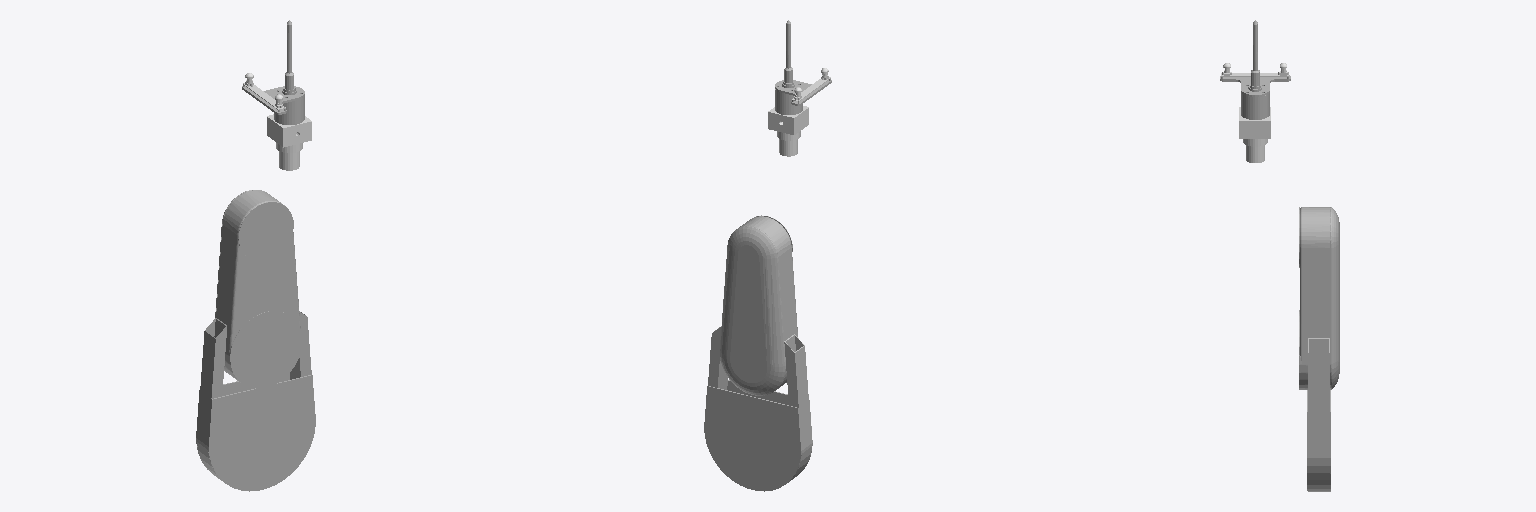
The robot description file, URDF, robot "m6r_0401":
<?xml version="1.0" encoding="utf-8"?>
<!-- This URDF was automatically created by SolidWorks to URDF Exporter! Originally created by Stephen Brawner (brawner@gmail.com) 
     Commit Version: 1.6.0-4-g7f85cfe  Build Version: 1.6.7995.38578
     For more information, please see http://wiki.ros.org/sw_urdf_exporter -->
<robot
  name="m6r_0401">
  <link
    name="base_link">
    <inertial>
      <origin
        xyz="-0.0146959562730705 -1.31808177656248E-09 0.0738790283475741"
        rpy="0 0 0" />
      <mass
        value="5.31276956078926" />
      <inertia
        ixx="0.0254280679798273"
        ixy="-3.83756468543776E-10"
        ixz="-0.00246652568977196"
        iyy="0.0327484488605481"
        iyz="-4.2304378248601E-10"
        izz="0.0305803894465856" />
    </inertial>
    <visual>
      <origin
        xyz="0 0 0"
        rpy="0 0 0" />
      <geometry>
        <mesh
          filename="package://m6r_0401/meshes/base_link.STL" />
      </geometry>
      <material
        name="">
        <color
          rgba="0.894117647058823 0.894117647058823 0.894117647058823 1" />
      </material>
    </visual>
    <collision>
      <origin
        xyz="0 0 0"
        rpy="0 0 0" />
      <geometry>
        <mesh
          filename="package://m6r_0401/meshes/base_link.STL" />
      </geometry>
    </collision>
  </link>
  <link
    name="waist_link">
    <inertial>
      <origin
        xyz="0.0139701613082039 -0.015936284472385 0.132965338967223"
        rpy="0 0 0" />
      <mass
        value="13.4868898164828" />
      <inertia
        ixx="0.103115065826466"
        ixy="-0.00279429226547681"
        ixz="-0.0175187461405487"
        iyy="0.154263710369968"
        iyz="0.00418239915297628"
        izz="0.150904232632326" />
    </inertial>
    <visual>
      <origin
        xyz="0 0 0"
        rpy="0 0 0" />
      <geometry>
        <mesh
          filename="package://m6r_0401/meshes/waist_link.STL" />
      </geometry>
      <material
        name="">
        <color
          rgba="0.894117647058823 0.894117647058823 0.894117647058823 1" />
      </material>
    </visual>
    <collision>
      <origin
        xyz="0 0 0"
        rpy="0 0 0" />
      <geometry>
        <mesh
          filename="package://m6r_0401/meshes/waist_link.STL" />
      </geometry>
    </collision>
  </link>
  <joint
    name="j1"
    type="revolute">
    <origin
      xyz="0 0 0.175"
      rpy="0 0 0" />
    <parent
      link="base_link" />
    <child
      link="waist_link" />
    <axis
      xyz="0 0 1" />
    <limit
      lower="-3.14"
      upper="3.14"
      effort="50"
      velocity="100" />
  </joint>
  <link
    name="shoulder_link">
    <inertial>
      <origin
        xyz="-0.0393421032855981 0.0417793152023532 0.0773583929062565"
        rpy="0 0 0" />
      <mass
        value="5.239440252985" />
      <inertia
        ixx="0.0539250127743356"
        ixy="1.3892253073317E-06"
        ixz="0.0203431860572253"
        iyy="0.0726126815272468"
        iyz="-2.72845406496921E-06"
        izz="0.0242701394994817" />
    </inertial>
    <visual>
      <origin
        xyz="0 0 0"
        rpy="0 0 0" />
      <geometry>
        <mesh
          filename="package://m6r_0401/meshes/shoulder_link.STL" />
      </geometry>
      <material
        name="">
        <color
          rgba="0.752941176470588 0.752941176470588 0.752941176470588 1" />
      </material>
    </visual>
    <collision>
      <origin
        xyz="0 0 0"
        rpy="0 0 0" />
      <geometry>
        <mesh
          filename="package://m6r_0401/meshes/shoulder_link.STL" />
      </geometry>
    </collision>
  </link>
  <joint
    name="j2"
    type="revolute">
    <origin
      xyz="0.1 0.0939999999999999 0.175"
      rpy="0 0.470238649045242 0" />
    <parent
      link="waist_link" />
    <child
      link="shoulder_link" />
    <axis
      xyz="0 1 0" />
    <limit
      lower="-3.14"
      upper="3.14"
      effort="50"
      velocity="100" />
  </joint>
  <link
    name="elbow_link">
    <inertial>
      <origin
        xyz="-0.0324458881612945 -0.0899423500054787 6.19472507663449E-05"
        rpy="0 0 0" />
      <mass
        value="3.1983360651658" />
      <inertia
        ixx="0.0112232922596549"
        ixy="-0.000413394805888793"
        ixz="-6.08808867039558E-08"
        iyy="0.0102793012206642"
        iyz="-6.82240237651028E-08"
        izz="0.0146558013438073" />
    </inertial>
    <visual>
      <origin
        xyz="0 0 0"
        rpy="0 0 0" />
      <geometry>
        <mesh
          filename="package://m6r_0401/meshes/elbow_link.STL" />
      </geometry>
      <material
        name="">
        <color
          rgba="0.894117647058823 0.894117647058823 0.894117647058823 1" />
      </material>
    </visual>
    <collision>
      <origin
        xyz="0 0 0"
        rpy="0 0 0" />
      <geometry>
        <mesh
          filename="package://m6r_0401/meshes/elbow_link.STL" />
      </geometry>
    </collision>
  </link>
  <joint
    name="j3"
    type="revolute">
    <origin
      xyz="-0.12007124676629 0 0.236236948210877"
      rpy="3.14159265358979 -1.10055767774965 3.14159265358979" />
    <parent
      link="shoulder_link" />
    <child
      link="elbow_link" />
    <axis
      xyz="0 1 0" />
    <limit
      lower="-3.14"
      upper="3.14"
      effort="50"
      velocity="100" />
  </joint>
  <link
    name="forearm_link">
    <inertial>
      <origin
        xyz="0.104594235632207 -3.51313726359792E-05 0.0118646938705899"
        rpy="0 0 0" />
      <mass
        value="3.99832391956014" />
      <inertia
        ixx="0.0147209720136988"
        ixy="9.48980902632805E-06"
        ixz="2.41189760403757E-05"
        iyy="0.0198010467365379"
        iyz="-1.85475880375841E-07"
        izz="0.0292046575025211" />
    </inertial>
    <visual>
      <origin
        xyz="0 0 0"
        rpy="0 0 0" />
      <geometry>
        <mesh
          filename="package://m6r_0401/meshes/forearm_link.STL" />
      </geometry>
      <material
        name="">
        <color
          rgba="0.752941176470588 0.752941176470588 0.752941176470588 1" />
      </material>
    </visual>
    <collision>
      <origin
        xyz="0 0 0"
        rpy="0 0 0" />
      <geometry>
        <mesh
          filename="package://m6r_0401/meshes/forearm_link.STL" />
      </geometry>
    </collision>
  </link>
  <joint
    name="j4"
    type="revolute">
    <origin
      xyz="0.0449999999999997 -0.0939999999999999 0"
      rpy="0 0 0" />
    <parent
      link="elbow_link" />
    <child
      link="forearm_link" />
    <axis
      xyz="1 0 0" />
    <limit
      lower="-3.14"
      upper="3.14"
      effort="50"
      velocity="100" />
  </joint>
  <link
    name="wriste_pitch">
    <inertial>
      <origin
        xyz="-0.0171303931049135 5.19927577799738E-15 6.2416041016089E-05"
        rpy="0 0 0" />
      <mass
        value="0.295781549289781" />
      <inertia
        ixx="0.000182023567605451"
        ixy="2.43803833476559E-20"
        ixz="4.64702239636607E-20"
        iyy="0.000310680621706772"
        iyz="-2.04947786210346E-21"
        izz="0.000308656048501105" />
    </inertial>
    <visual>
      <origin
        xyz="0 0 0"
        rpy="0 0 0" />
      <geometry>
        <mesh
          filename="package://m6r_0401/meshes/wriste_pitch.STL" />
      </geometry>
      <material
        name="">
        <color
          rgba="0.894117647058823 0.894117647058823 0.894117647058823 1" />
      </material>
    </visual>
    <collision>
      <origin
        xyz="0 0 0"
        rpy="0 0 0" />
      <geometry>
        <mesh
          filename="package://m6r_0401/meshes/wriste_pitch.STL" />
      </geometry>
    </collision>
  </link>
  <joint
    name="j5"
    type="revolute">
    <origin
      xyz="0.225 0 0"
      rpy="0 0 0" />
    <parent
      link="forearm_link" />
    <child
      link="wriste_pitch" />
    <axis
      xyz="0 1 0" />
    <limit
      lower="-3.14"
      upper="3.14"
      effort="50"
      velocity="100" />
  </joint>
  <link
    name="wriste_roll">
    <inertial>
      <origin
        xyz="-0.17654 8.093E-07 -0.00543"
        rpy="0 0 0" />
      <mass
        value="0.23402" />
      <inertia
        ixx="0.00015432"
        ixy="5.5959E-09"
        ixz="-3.8408E-07"
        iyy="0.00018968"
        iyz="2.3657E-09"
        izz="0.00019526" />
    </inertial>
    <visual>
      <origin
        xyz="0 0 0"
        rpy="0 0 0" />
      <geometry>
        <mesh
          filename="package://m6r_0401/meshes/wriste_roll.STL" />
      </geometry>
      <material
        name="">
        <color
          rgba="0.75294 0.75294 0.75294 1" />
      </material>
    </visual>
    <collision>
      <origin
        xyz="0 0 0"
        rpy="0 0 0" />
      <geometry>
        <mesh
          filename="package://m6r_0401/meshes/wriste_roll.STL" />
      </geometry>
    </collision>
  </link>
  <joint
    name="j6"
    type="revolute">
    <origin
      xyz="0.239999992649506 0 6.24160410211128E-05"
      rpy="3.14159265358979 0 0" />
    <parent
      link="wriste_pitch" />
    <child
      link="wriste_roll" />
    <axis
      xyz="-1 0 0" />
    <limit
      lower="-3.14"
      upper="3.14"
      effort="50"
      velocity="100" />
  </joint>
  <link
    name="camera">
    <inertial>
      <origin
        xyz="-0.06 -0.015478 3.5527E-15"
        rpy="0 0 0" />
      <mass
        value="0.012285" />
      <inertia
        ixx="1.1912E-06"
        ixy="2.8828E-20"
        ixz="2.2023E-18"
        iyy="3.6816E-05"
        iyz="-3.5138E-21"
        izz="3.7575E-05" />
    </inertial>
    <visual>
      <origin
        xyz="0 0 0"
        rpy="0 0 0" />
      <geometry>
        <mesh
          filename="package://m6r_0401/meshes/camera.STL" />
      </geometry>
      <material
        name="">
        <color
          rgba="0.89412 0.89412 0.89412 1" />
      </material>
    </visual>
    <collision>
      <origin
        xyz="0 0 0"
        rpy="0 0 0" />
      <geometry>
        <mesh
          filename="package://m6r_0401/meshes/camera.STL" />
      </geometry>
    </collision>
  </link>
  <joint
    name="camera"
    type="fixed">
    <origin
      xyz="-0.12983 0.060009 -0.058991"
      rpy="3.1416 -0.0001505 1.5708" />
    <parent
      link="wriste_roll" />
    <child
      link="camera" />
    <axis
      xyz="0 0 0" />
  </joint>
</robot>

--- Render facts (derived) ---
The picture shows the robot from 3 angles, left to right: view 1: azimuth 30°, elevation 25°; view 2: azimuth 150°, elevation 25°; view 3: azimuth 270°, elevation 25°; orthographic projection.
Robot: m6r_0401 — 8 links, 7 joints (6 revolute, 1 fixed); root link base_link; default pose: all joints at 0.
Visible links, largest first — view 1: shoulder_link, wriste_roll, wriste_pitch; view 2: shoulder_link, wriste_roll, wriste_pitch; view 3: shoulder_link, wriste_roll, wriste_pitch.
Link boxes in pixels (left/top/right/bottom): shoulder_link: left=196, top=190, right=315, bottom=491; wriste_roll: left=242, top=20, right=304, bottom=124; wriste_pitch: left=267, top=114, right=311, bottom=170; shoulder_link: left=704, top=215, right=812, bottom=491; wriste_roll: left=775, top=20, right=831, bottom=114; wriste_pitch: left=768, top=106, right=808, bottom=156; shoulder_link: left=1299, top=207, right=1339, bottom=491; wriste_roll: left=1220, top=20, right=1290, bottom=119; wriste_pitch: left=1239, top=107, right=1270, bottom=162.
Size in the robot's own frame: 0.2514 by 0.255 by 1.1 metres.
Meshes: 8 distinct files referenced, 4 mesh visuals loaded (4 binary STL); not drawn: 4 (reference not matched to a file when rendering).
